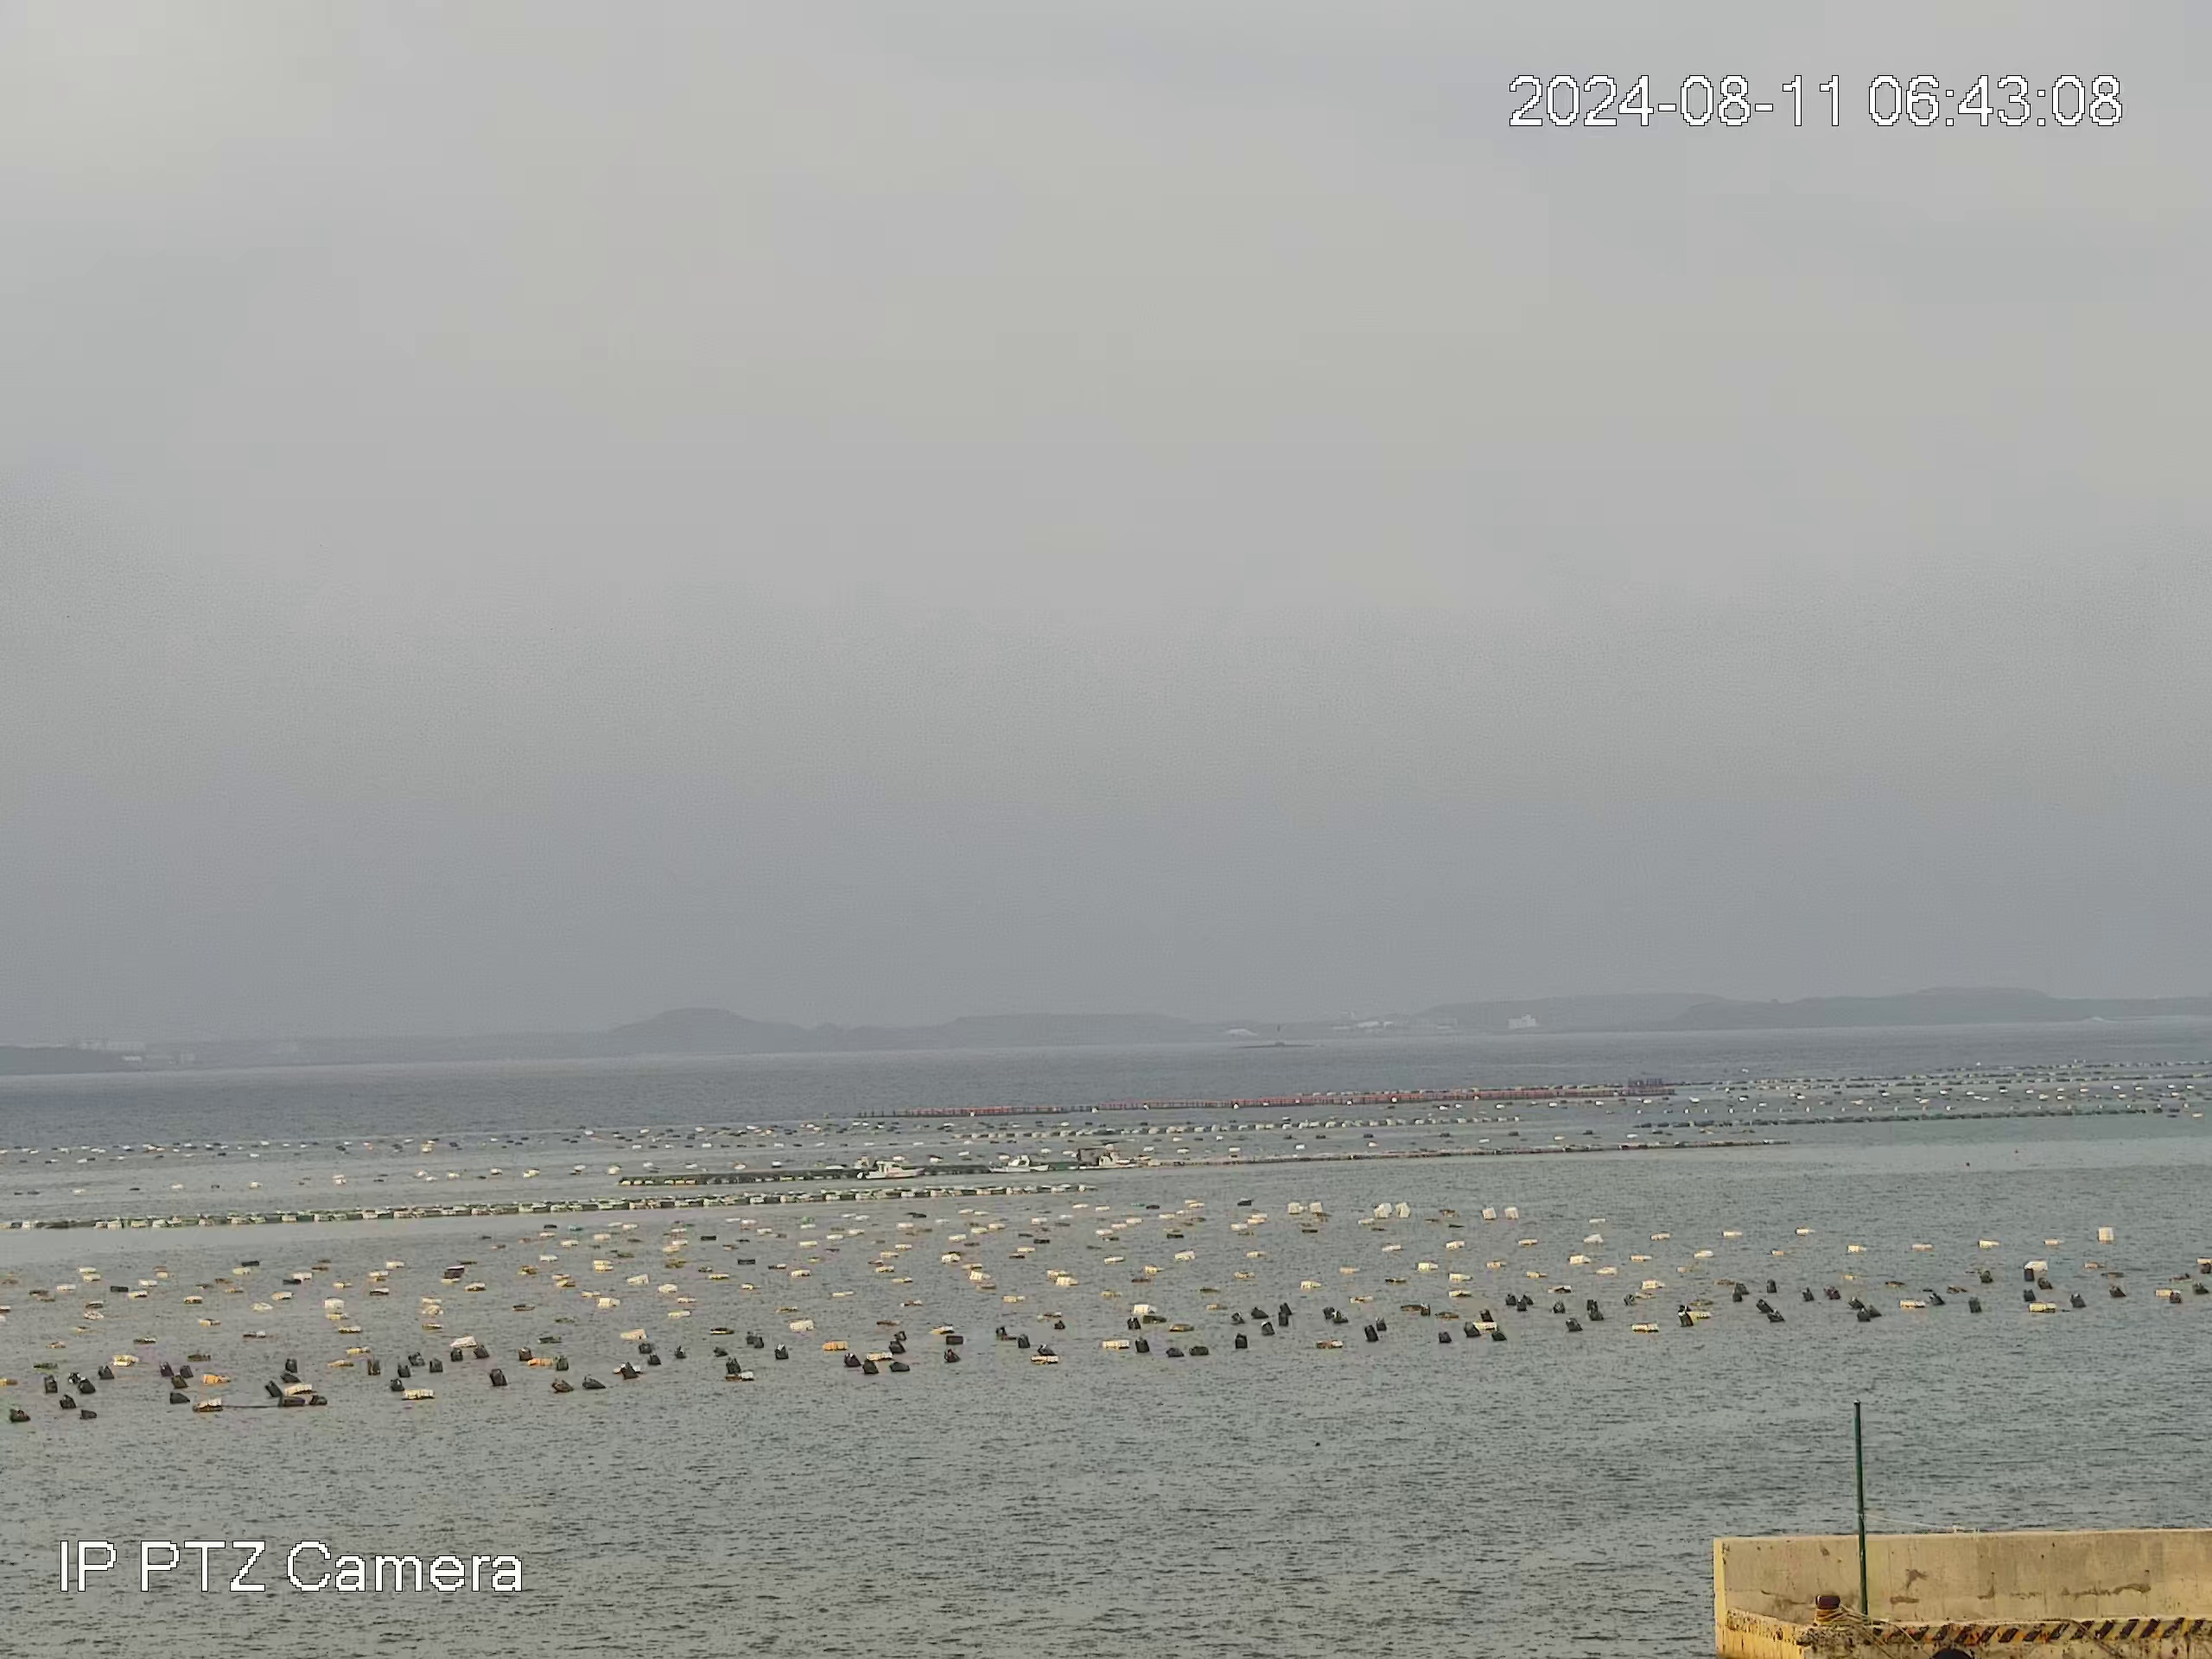boat: (855, 1159, 925, 1180), (986, 1154, 1050, 1173), (1064, 1154, 1113, 1169)
